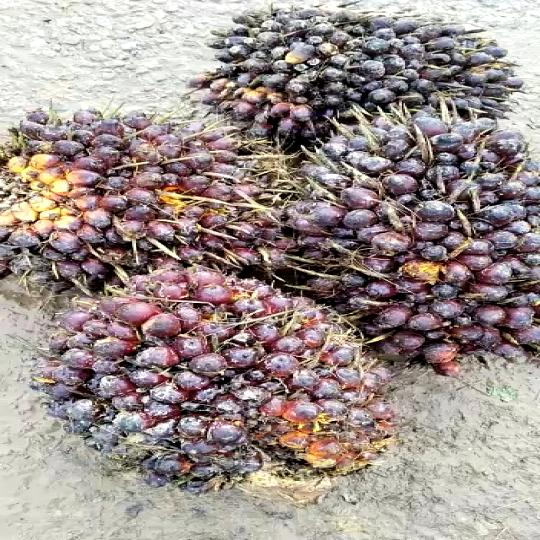kurang masak: (40, 265, 424, 505), (274, 105, 540, 360), (0, 90, 277, 288), (191, 0, 540, 142)
